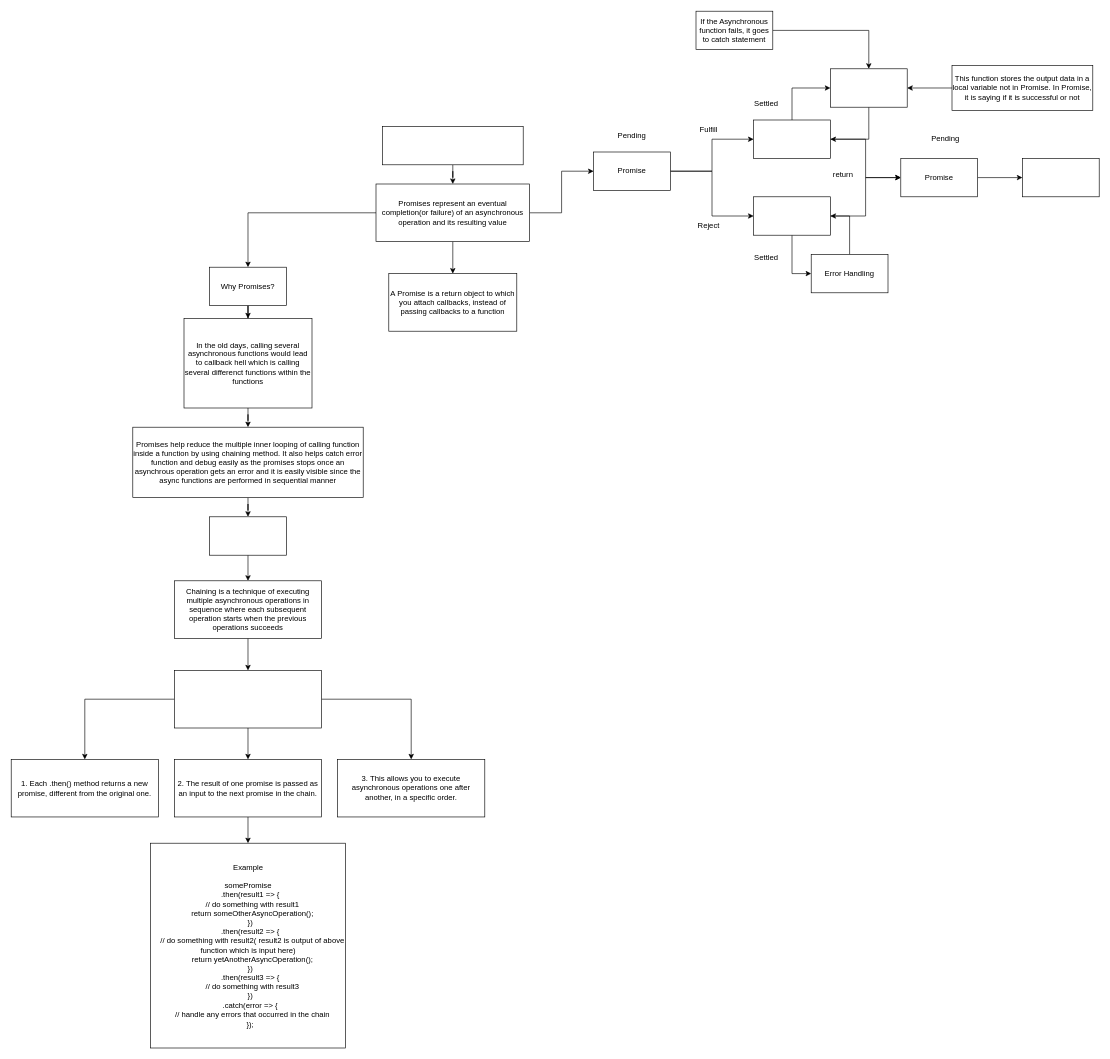
This 1110x1059 diagram has some shape labels left out. Each missing label, with the box of its shape:
.then: (1022, 158, 1099, 197)
.then(OnFullFilment): (753, 119, 830, 158)
.then(OnRejection) catch: (753, 196, 830, 235)
Asynchronous action: (830, 68, 907, 107)
Chaining: (209, 516, 286, 555)
How promises work?: (174, 670, 322, 728)
Promises - Javascript from MDN , Using Promises link: (382, 126, 523, 165)
